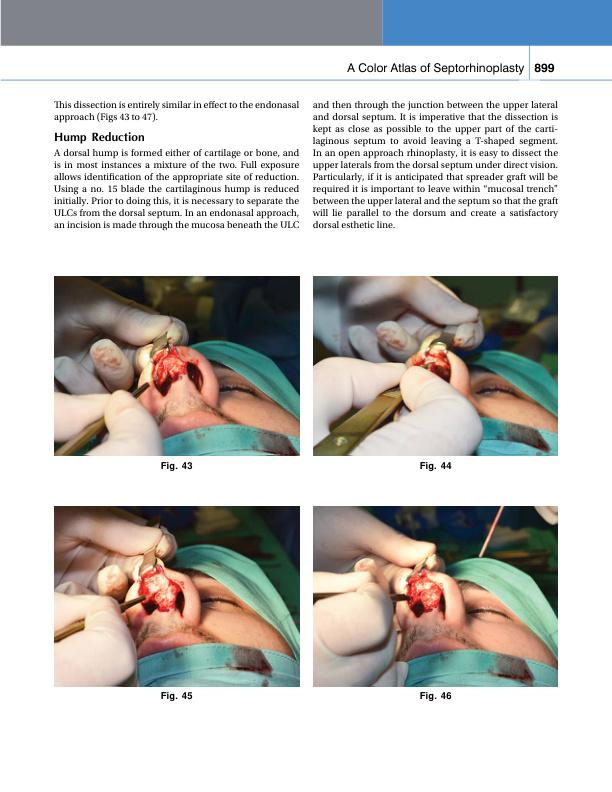caption: (418, 689, 454, 703), (159, 690, 194, 704), (418, 460, 453, 473), (159, 460, 194, 472)
header: (346, 60, 525, 76)
image: (54, 275, 301, 457), (54, 505, 299, 687), (313, 275, 558, 456), (313, 506, 558, 687)
section-heading: (54, 129, 146, 145)
text: (311, 99, 560, 229), (52, 148, 302, 232), (52, 97, 301, 123)
